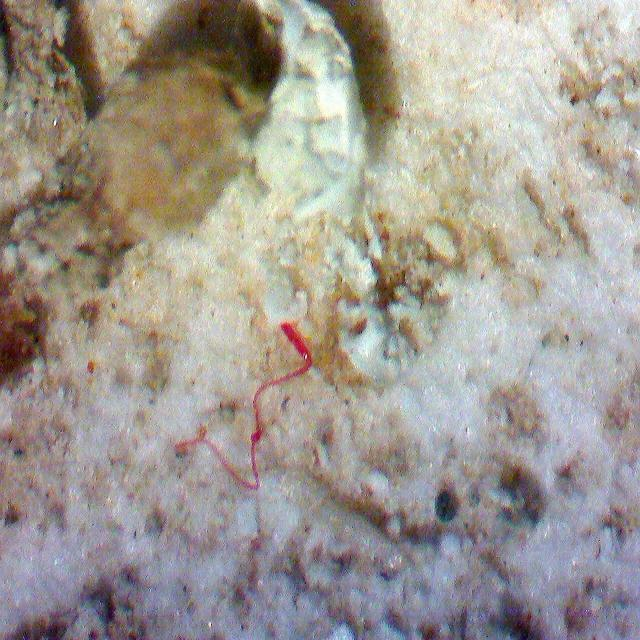microplastic: (174, 324, 312, 490)
